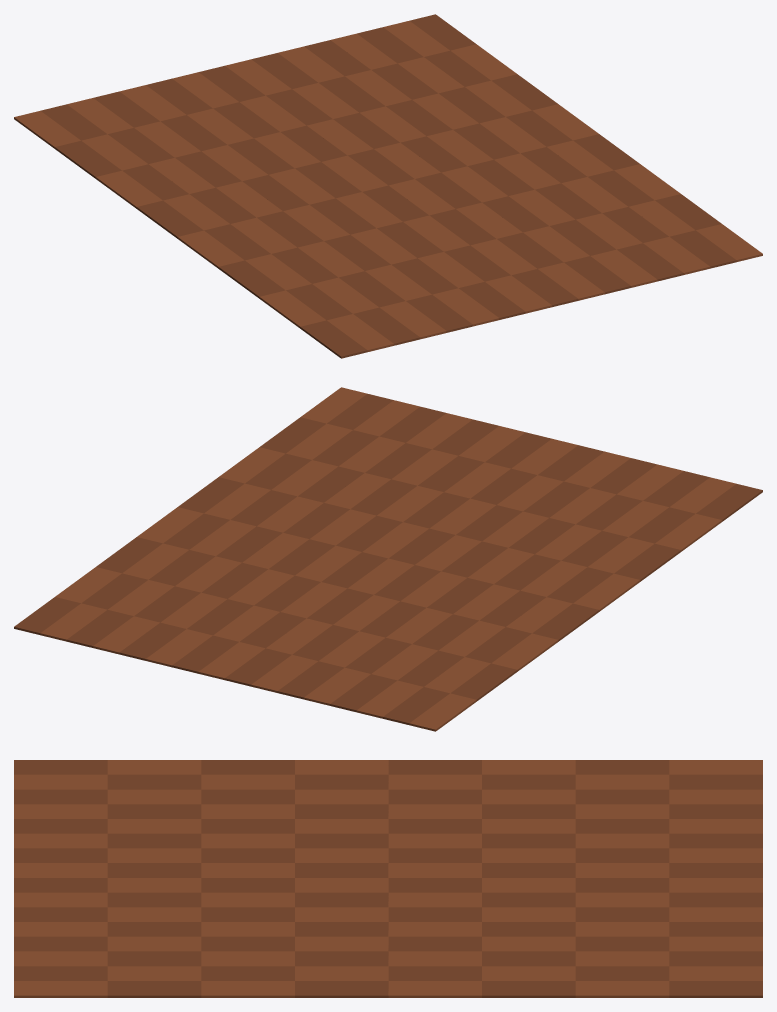
Rendered from podloga.fbx.
3 views of the same model, one above another, from view 1: azimuth 30°, elevation 25°; view 2: azimuth 150°, elevation 25°; view 3: azimuth 270°, elevation 25° (orthographic). The views are drawn at different scales.
Visible parts, largest first — view 1: Cube.020; view 2: Cube.020; view 3: Cube.020.
Boxes of the visible parts, box(x1,y1,x2,y2) form: Cube.020: box(14, 14, 762, 358); Cube.020: box(14, 387, 762, 731); Cube.020: box(14, 760, 762, 997).
Size of the model in its own units: 3714 by 16.78 by 4992.
